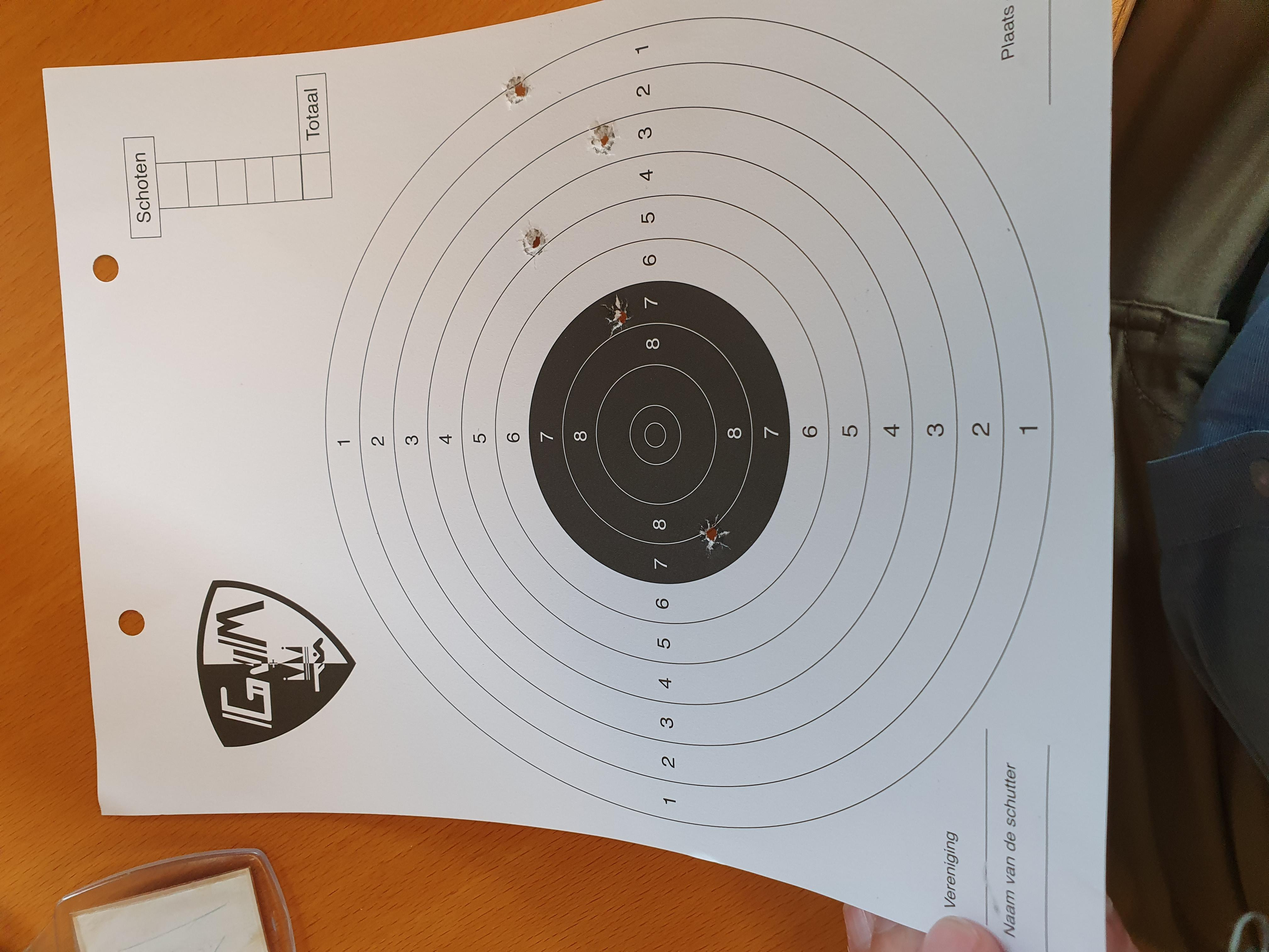hole: (526, 521, 588, 548), (820, 449, 880, 476), (919, 387, 974, 415), (1123, 373, 1178, 401), (1057, 436, 1108, 464)
